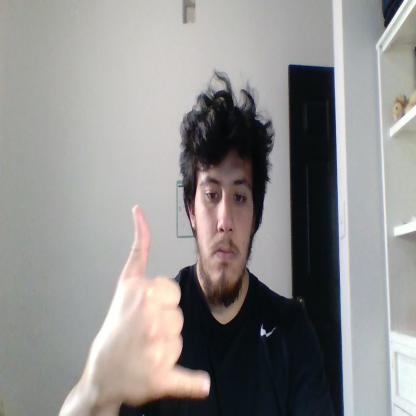Y: (112, 202, 210, 407)
